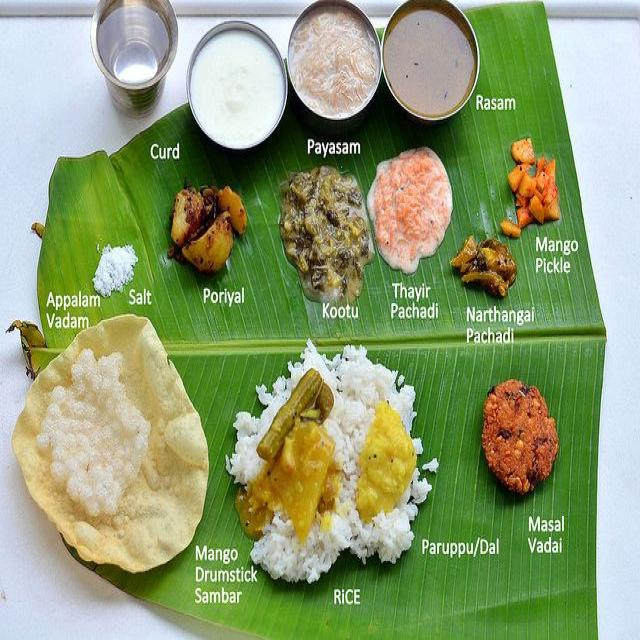veg meals: (4, 0, 592, 608)
